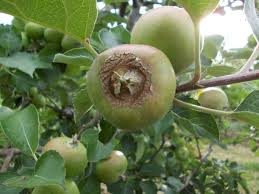apple: (130, 7, 206, 68), (41, 135, 90, 179), (91, 150, 131, 183), (197, 83, 230, 113)
damaged_apple: (81, 44, 182, 128)
